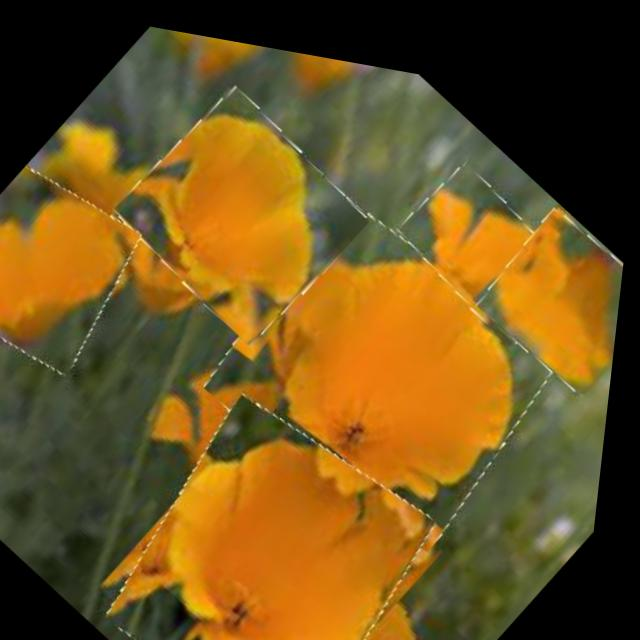Flower: (184, 144, 596, 570), (90, 347, 480, 640), (106, 61, 386, 354), (0, 139, 172, 399), (389, 135, 594, 337), (469, 174, 631, 382)
